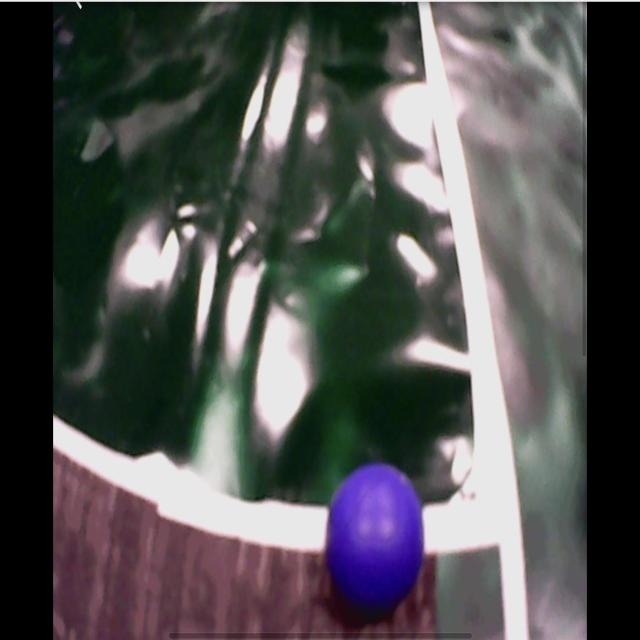ball: (325, 463, 425, 618)
